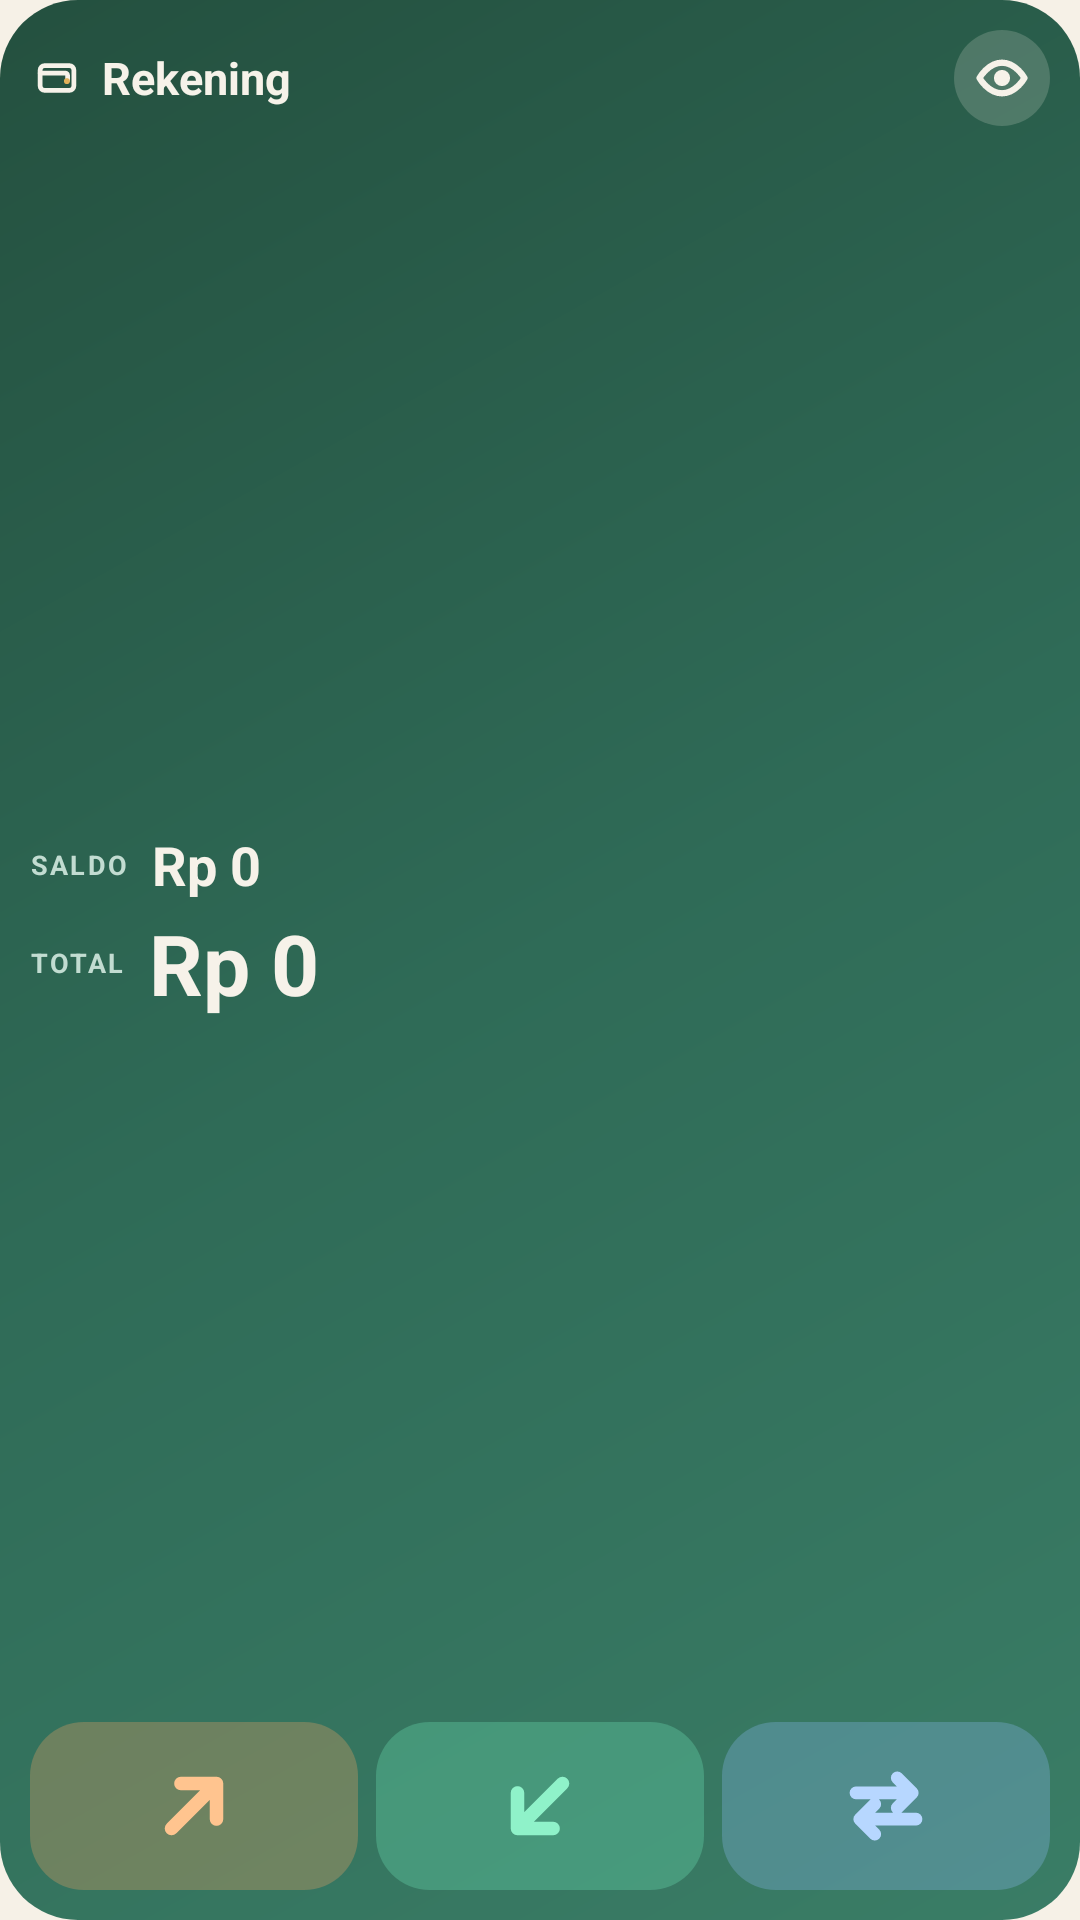

Where to tap for icons on this 1080×1920 app screen, as [x,y]:
Pendapatan: [540,1806]
Pengeluaran: [194,1806]
Sembunyikan atau tampilkan nominal: [1002,78]
Transfer: [886,1806]
